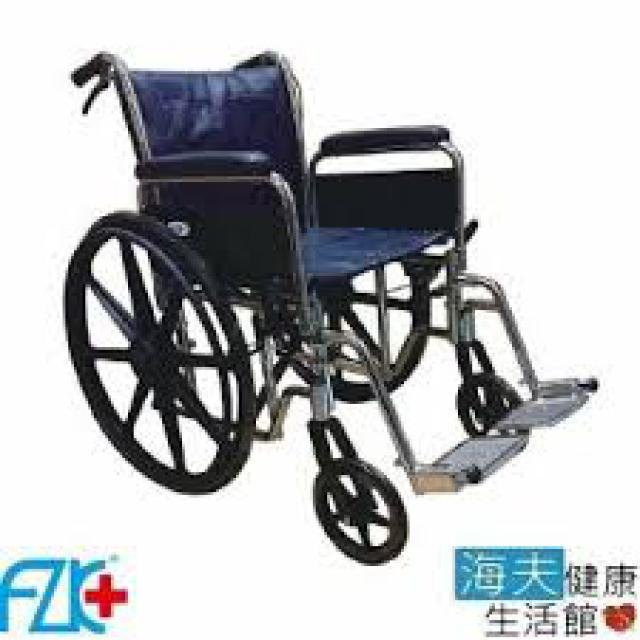wheelchair: (54, 46, 603, 564)
